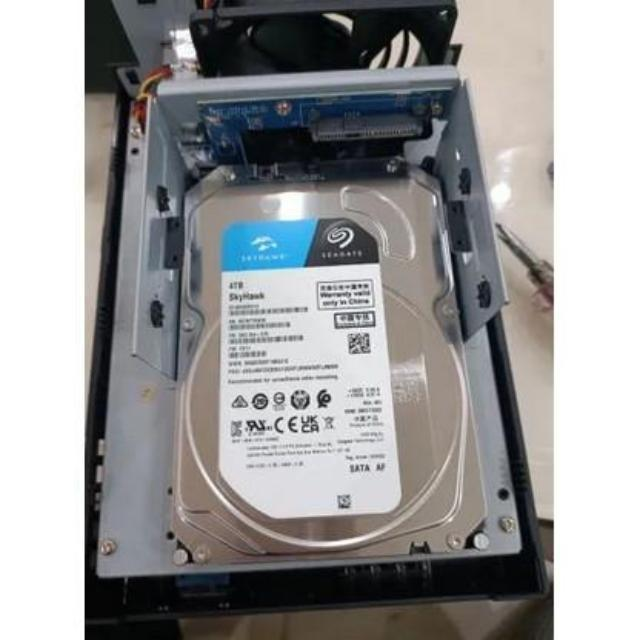DISK: (180, 184, 488, 556)
